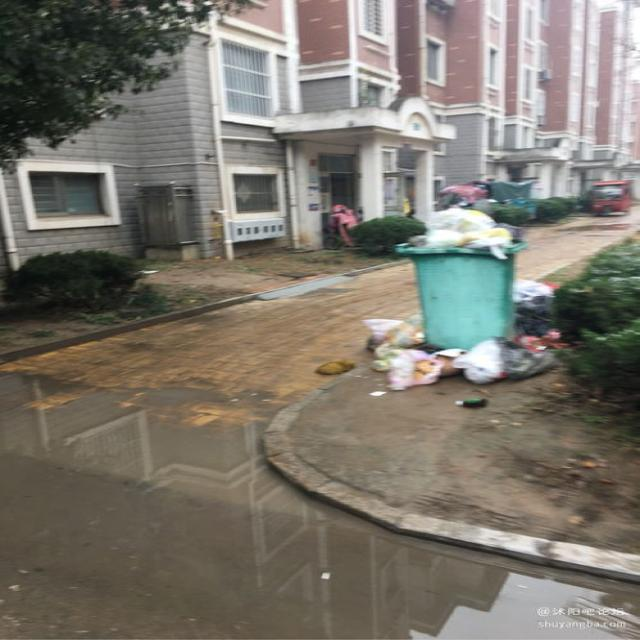garbage: (318, 277, 557, 406)
overflow: (392, 207, 524, 346)
